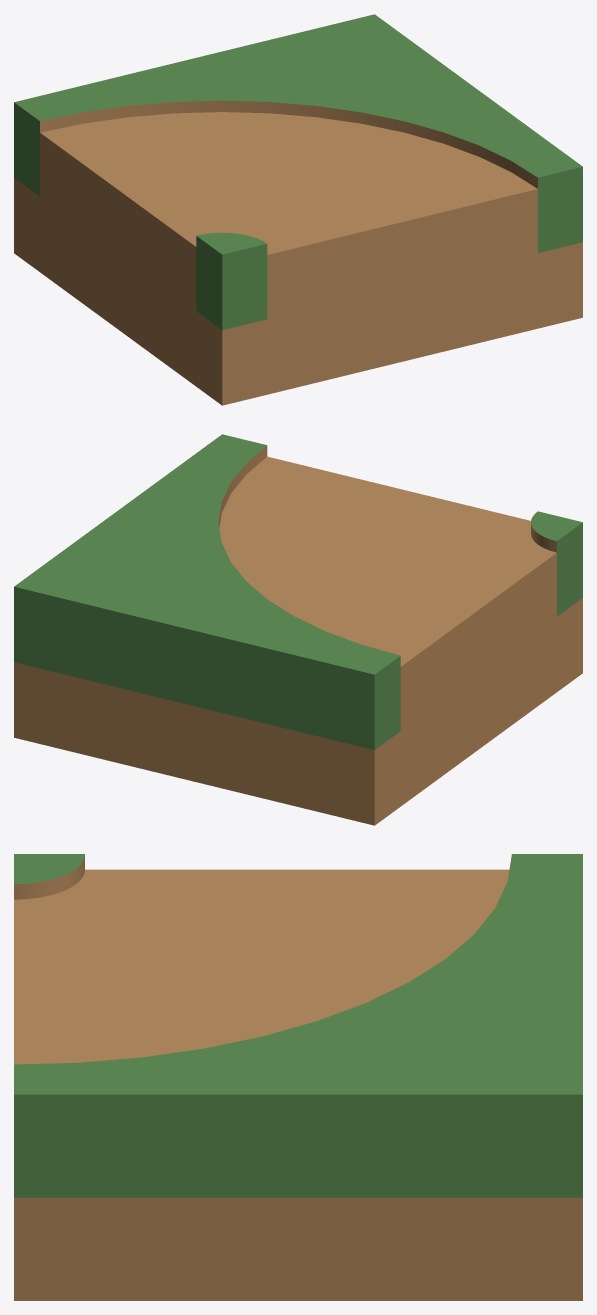
The model's file is tile_101.fbx.
3 views of the same model, one above another, from view 1: azimuth 30°, elevation 25°; view 2: azimuth 150°, elevation 25°; view 3: azimuth 270°, elevation 25° (orthographic). The views are drawn at different scales.
Visible parts, largest first — view 1: tile_101; view 2: tile_101; view 3: tile_101.
Boxes of the visible parts, x1=… form: tile_101: x1=14, y1=14, x2=582, y2=405; tile_101: x1=14, y1=434, x2=582, y2=825; tile_101: x1=14, y1=854, x2=582, y2=1300.
Size of the model in its own units: 10 by 4 by 10.
